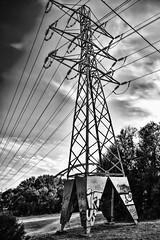power_tower: (40, 0, 139, 230)
